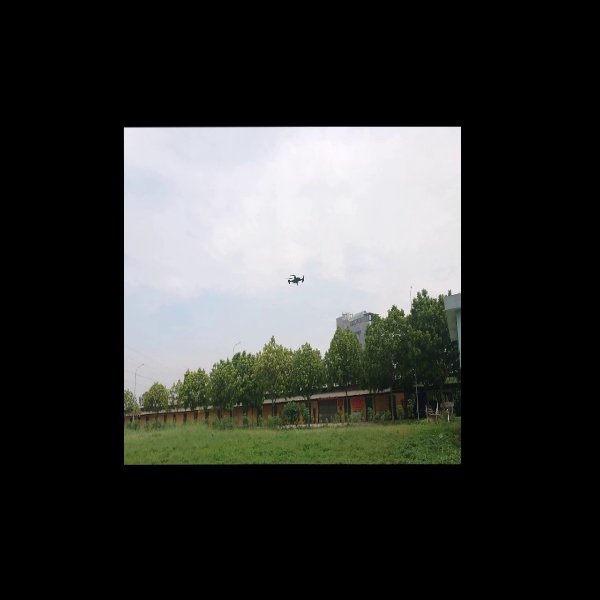drone: (284, 269, 309, 292)
